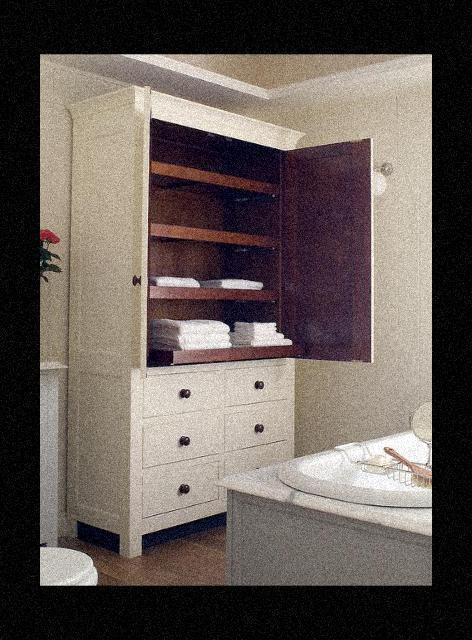Lavamanos: (291, 428, 431, 509)
Sanitario: (40, 532, 101, 585)
